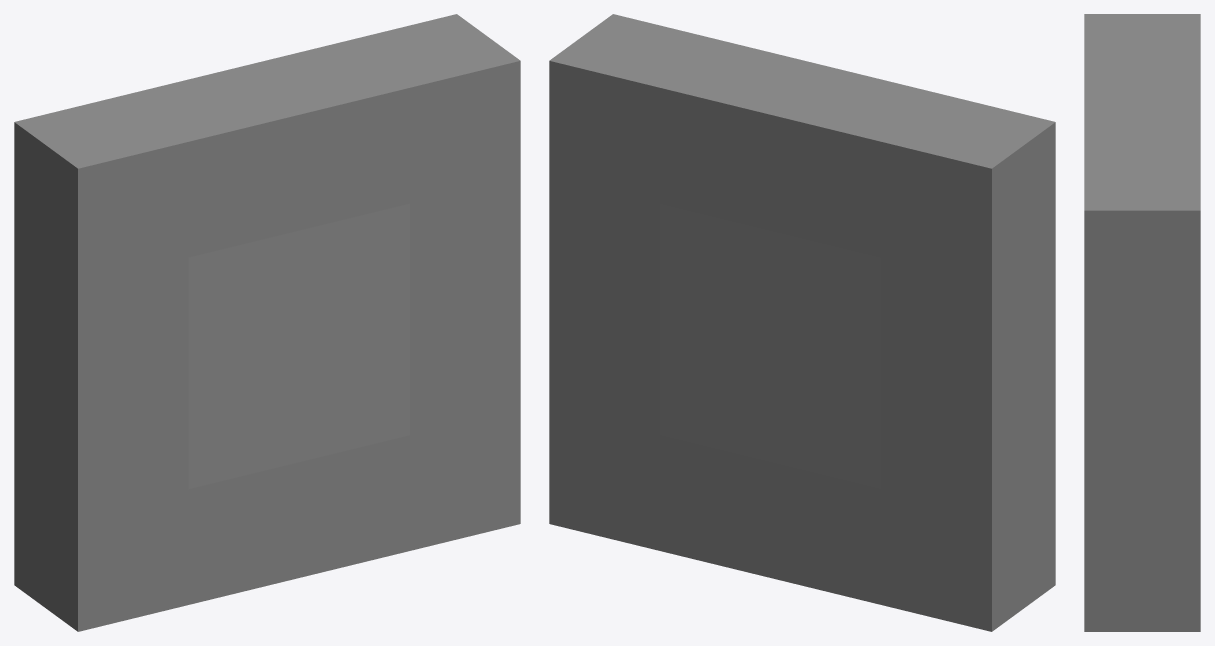
File: light-switch1-body.obj
3 renders of one model, left to right at view 1: azimuth 30°, elevation 25°; view 2: azimuth 150°, elevation 25°; view 3: azimuth 270°, elevation 25°, orthographic. The views are drawn at different scales.
Bounding box in the file's own units: 0.4 × 0.4 × 0.1.
